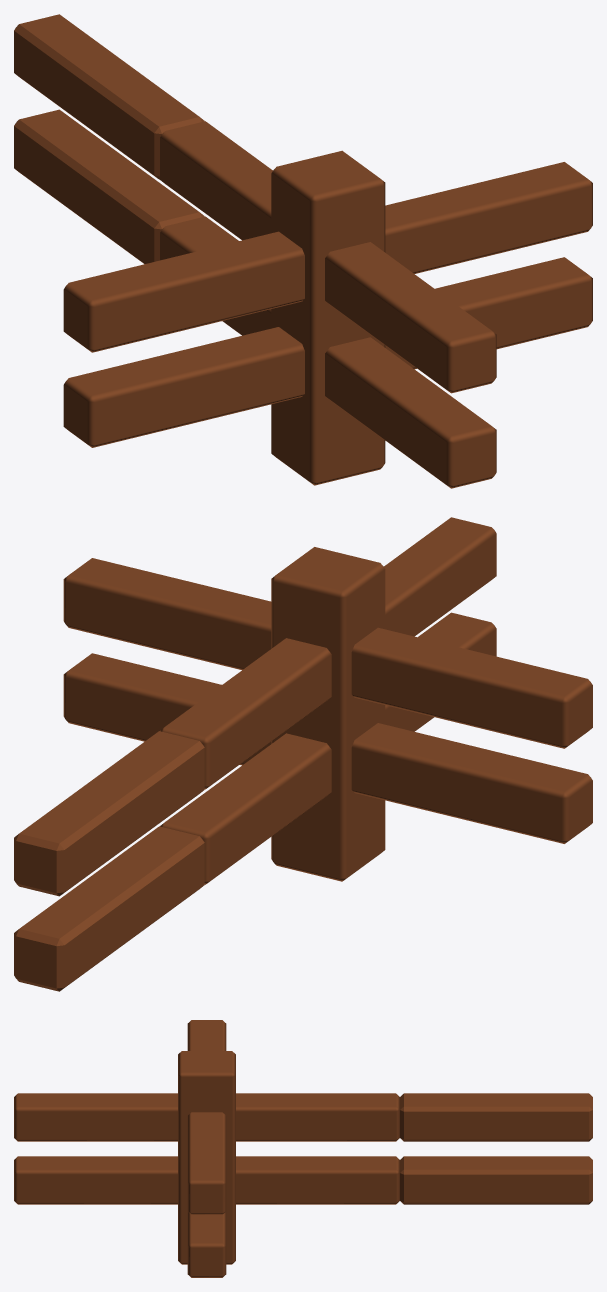
Rendered from Fence.glb.
3 renders of one model, top to bottom at view 1: azimuth 30°, elevation 25°; view 2: azimuth 150°, elevation 25°; view 3: azimuth 270°, elevation 25°, orthographic. The views are drawn at different scales.
Parts seen in each view (by area): view 1: Fence Cross, Fence Corner, Fence Extension; view 2: Fence Corner, Fence Cross, Fence Extension; view 3: Fence Corner, Fence Extension, Fence Cross.
Part boxes in pixels (x1=…): Fence Cross: x1=63, y1=231, x2=496, y2=488; Fence Corner: x1=160, y1=121, x2=592, y2=485; Fence Extension: x1=14, y1=14, x2=204, y2=264; Fence Corner: x1=63, y1=547, x2=385, y2=884; Fence Cross: x1=351, y1=517, x2=592, y2=843; Fence Extension: x1=14, y1=731, x2=204, y2=991; Fence Corner: x1=178, y1=1051, x2=399, y2=1277; Fence Extension: x1=400, y1=1093, x2=592, y2=1204; Fence Cross: x1=14, y1=1020, x2=226, y2=1204.
Bounding box in the file's own units: 1 × 0.55 × 1.5.
